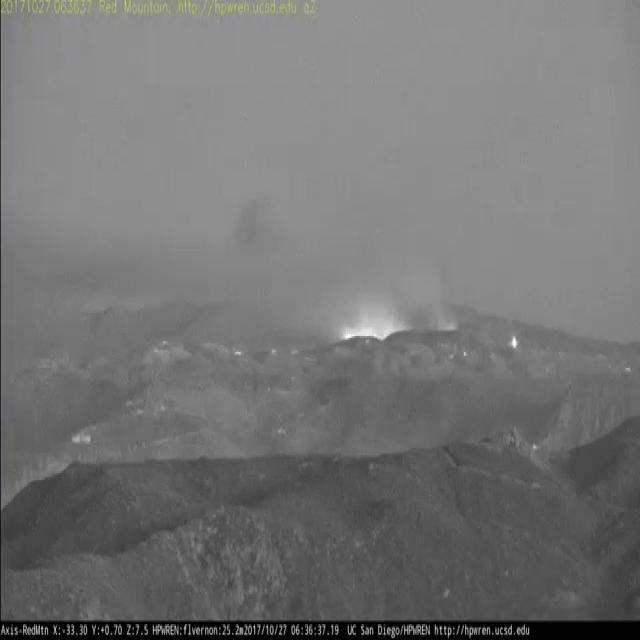Fire: (338, 314, 410, 342)
